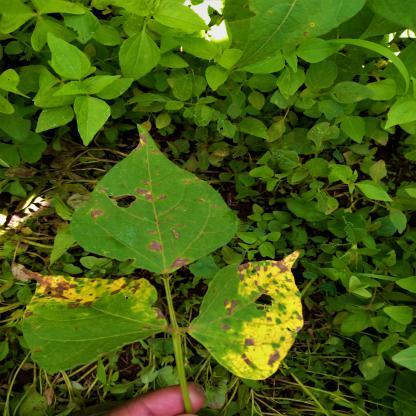Beans_Angular_LeafSpot: (63, 127, 224, 274), (22, 277, 171, 368), (202, 250, 304, 378)
